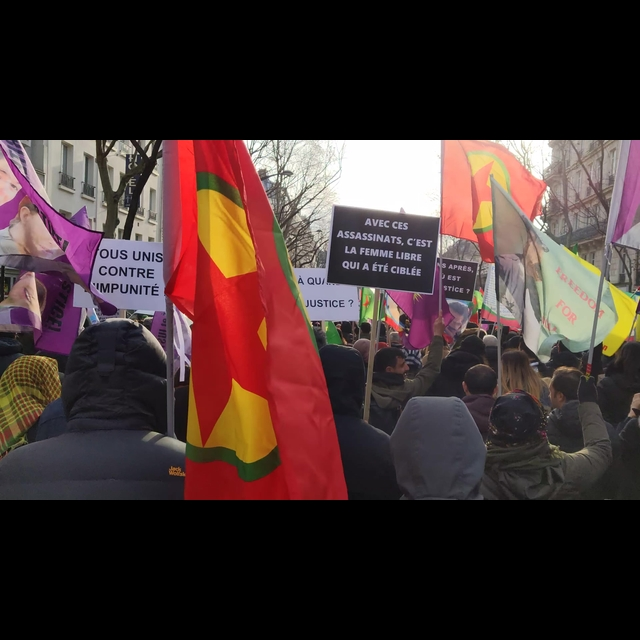PKK: (162, 140, 350, 500), (438, 135, 543, 266)
